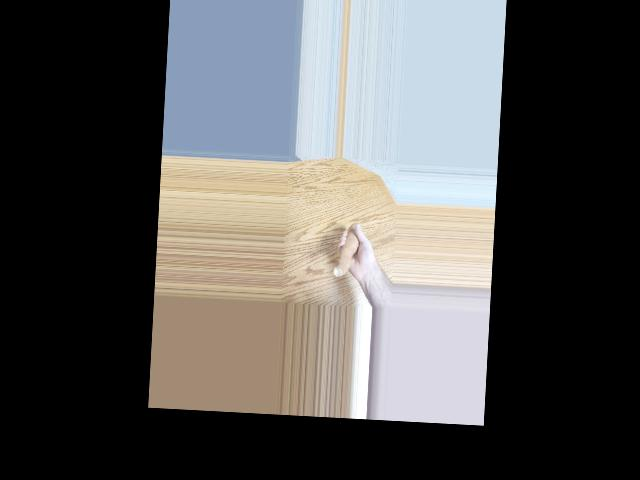sweet_potato: (333, 219, 360, 281)
